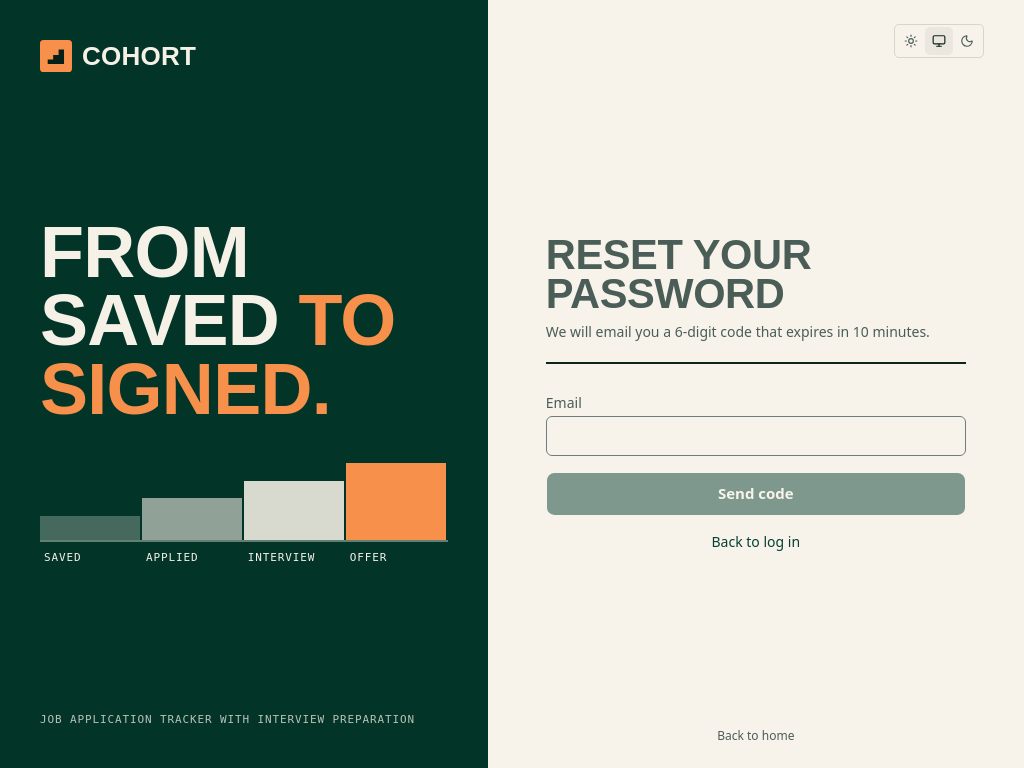
Test: account recovery pages › asks for a reset code and moves on to the code page whether or not the email exists
The width and height of the screenshot is (1024, 768).
Type "nobody@example.com" into the field labelled "Email" at x=756, y=436, box [546,416,966,456]
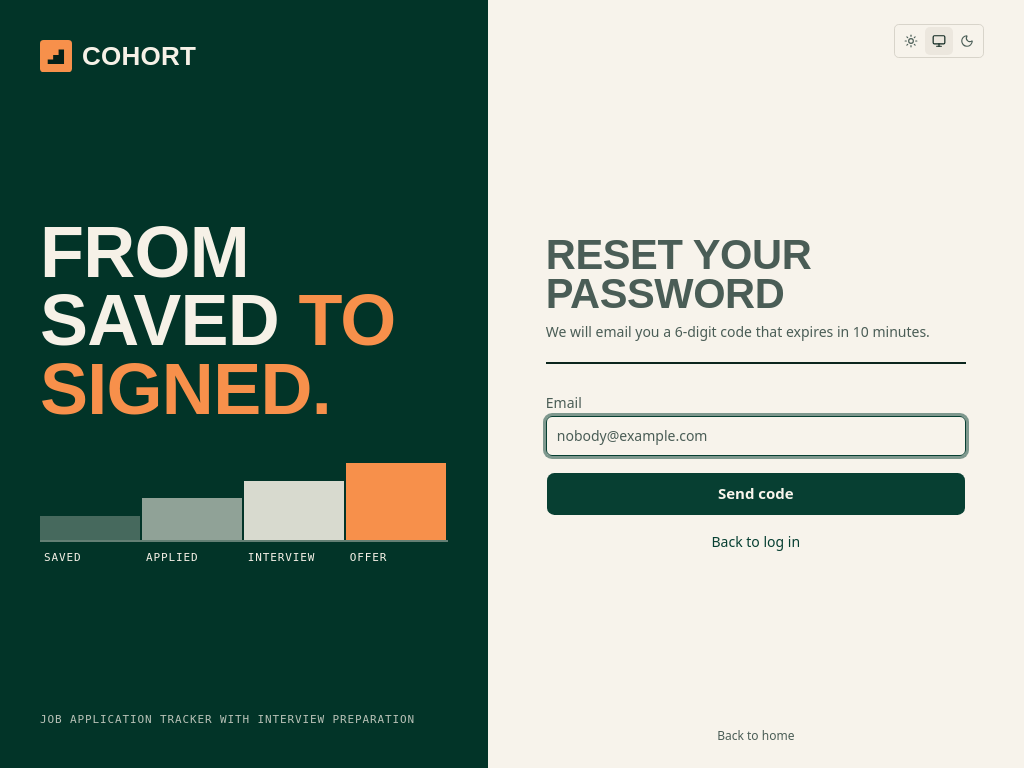
Click the button "Send code" at x=756, y=494, box [546,472,966,516]
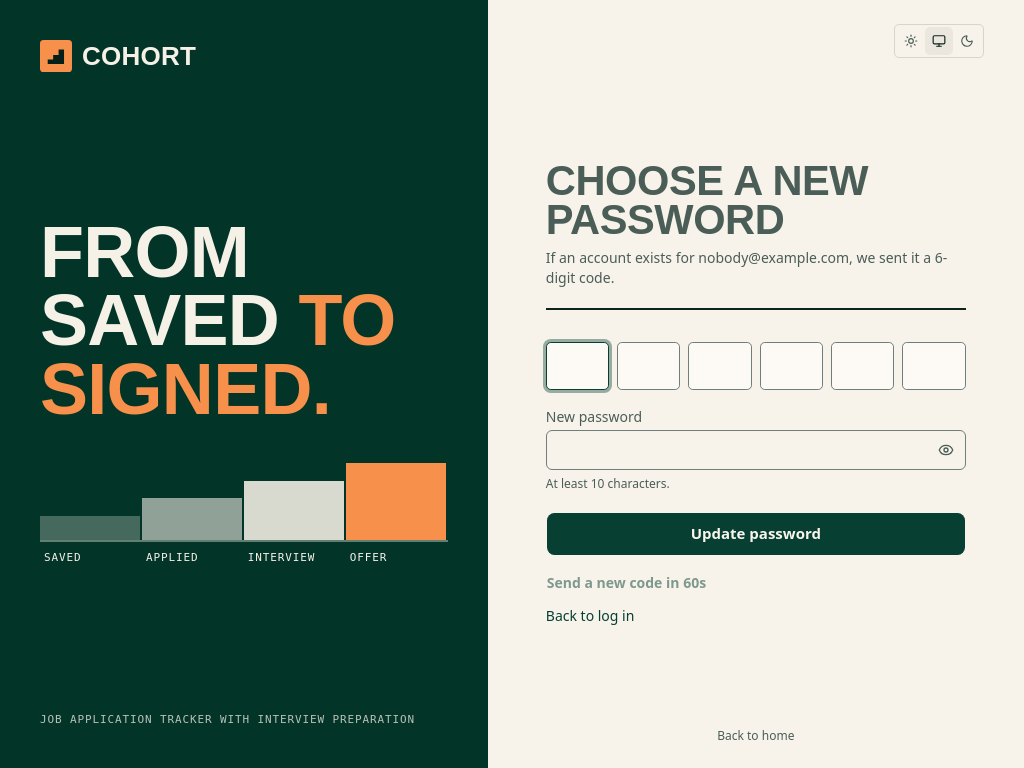
Expected: the text "If an account exists for nobody@example.com" is shown, [546,248,947,286]
